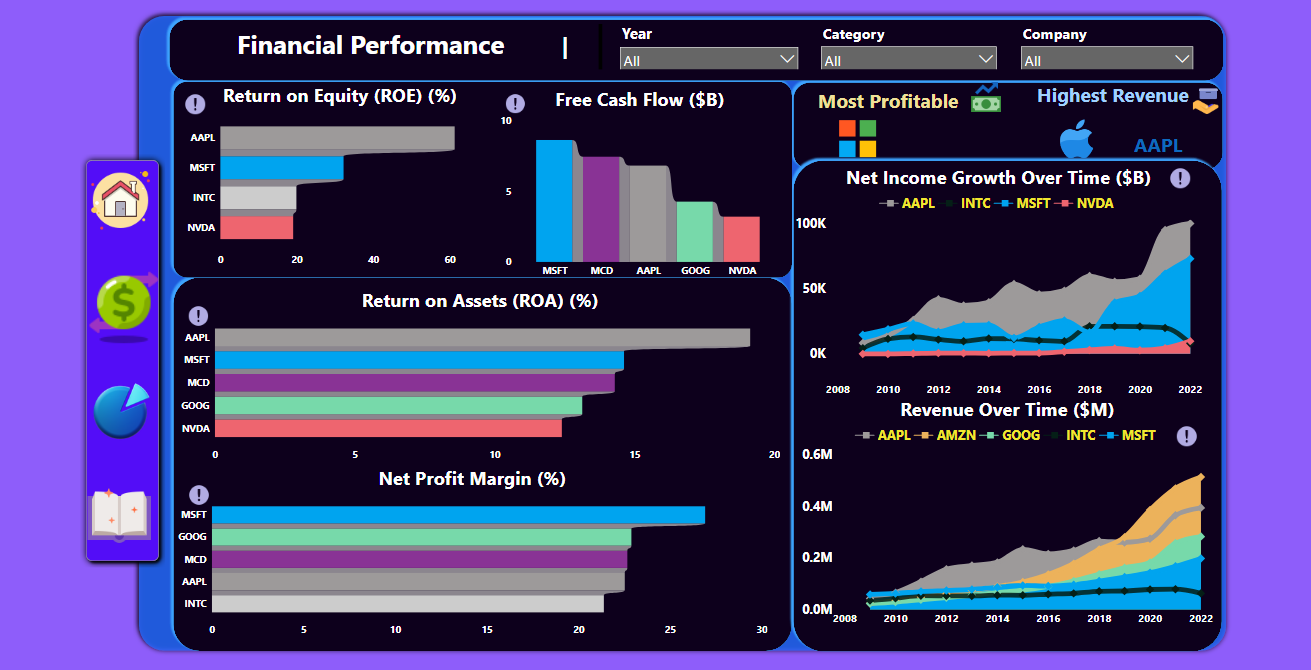

The page's visual inventory and layout, read from the dashboard file:
{"tool":"powerbi","page":{"name":"Financial Analysis 📈","canvas":[1920,1080],"ordinal":1},"visuals":[{"type":"shape","box":[87.6,0,1831.9,1078],"z":500},{"type":"shape","box":[146.4,437.5,1048.9,640.7],"z":1000},{"type":"shape","box":[1179.8,112.1,733.6,163],"z":2000},{"type":"shape","box":[1180.7,241.6,732.2,836.5],"z":3000},{"type":"shape","box":[145.9,109.4,1049,345.4],"z":4000},{"type":"shape","box":[0,240.3,141.6,688.6],"z":5000},{"type":"shape","box":[140.6,6.1,1774.9,120.2],"z":6000},{"type":"slicer","fields":{"Values":["Financial Statements.Year"]},"box":[889.3,16.1,317.2,82.3],"z":7000},{"type":"slicer","fields":{"Values":["Financial Statements.Category"]},"box":[1224.5,16.1,313.2,82.3],"z":8000},{"type":"lineChart","title":"Revenue Over Time ($M)","fields":{"Category":["Financial Statements.Year"],"Y":["Sum(Financial Statements.Revenue)"],"Series":["Financial Statements.Company "]},"box":[1198.2,643.9,694.9,393.3],"z":9000},{"type":"barChart","title":"Return on Assets (ROA) (%)","fields":{"Category":["Financial Statements.Company "],"Y":["Avg(Financial Statements.ROA)"]},"box":[160.9,461.2,1010.4,300.3],"z":10000},{"type":"barChart","title":"Net Profit Margin (%)","fields":{"Category":["Financial Statements.Company "],"Y":["Avg(Financial Statements.Net Profit Margin)"]},"box":[156.9,758,994.4,295.5],"z":11000},{"type":"image","box":[0,242.4,135.2,150.2],"z":12000},{"type":"image","box":[0,768,130.9,148],"z":13000},{"type":"image","box":[0,388.3,145.9,197.4],"z":14000},{"type":"image","box":[10.7,581.4,113.7,178.1],"z":15000},{"type":"shape","box":[834.1,22.7,68.1,76.4],"z":16000},{"type":"slicer","fields":{"Values":["Financial Statements.Company "]},"box":[1557.8,16.1,307.1,82.3],"z":17000},{"type":"card","fields":{"Values":["Financial Statements.TopMarketCapCompany"]},"box":[1730.1,194.1,134.4,64],"z":18000},{"type":"textbox","box":[1589.3,113.1,324.3,125.9],"z":19000},{"type":"image","box":[1610.7,166.4,100.3,96],"z":20000},{"type":"textbox","box":[1224.5,123.7,313.6,72.5],"z":21000},{"type":"textbox","box":[156.6,22.1,821,172.6],"z":22000},{"type":"columnChart","title":"Free Cash Flow ($B)","fields":{"Category":["Financial Statements.Company "],"Y":["Sum(Financial Statements.Free Cash Flow per Share)"]},"box":[695.1,126.6,476.2,328.2],"z":26000},{"type":"image","box":[1834.7,119.5,81.1,64],"z":27000},{"type":"image","box":[1457.1,108.8,106.7,72.5],"z":28000},{"type":"image","box":[1250.1,168.5,91.7,91.7],"z":29000},{"type":"textbox","box":[1390.9,192,119.5,70.4],"z":30000},{"type":"barChart","title":"Return on Equity (ROE) (%) ","fields":{"Category":["Financial Statements.Company "],"Y":["Avg(Financial Statements.ROE)"]},"box":[171.6,120.1,523.4,317.5],"z":31000},{"type":"lineChart","title":"Net Income Growth Over Time ($B)","fields":{"Y":["Sum(Financial Statements.Net Income)"],"Category":["Financial Statements.Year"],"Series":["Financial Statements.Company"]},"box":[1186,256.8,688.8,397.4],"z":32000},{"type":"image","box":[160.9,130.9,60.1,51.5],"z":33000},{"type":"image","box":[168.6,782.9,60.2,50.2],"z":34000},{"type":"image","box":[1815.6,684.7,59.1,50.9],"z":35000},{"type":"image","box":[1803.4,254.7,61.1,50.9],"z":36000},{"type":"image","box":[695.1,130.9,60.1,49.3],"z":37000},{"type":"image","box":[138.5,485.8,118.4,50.2],"z":38000}]}

Visuals, with their boxes on the page's 1920x1080 design canvas (x1, y1, x2, y2). These are canvas units, not pixel positions in the 1311x670 screenshot, which may show the page scaled, cropped or inside an application window:
shape: <box>88,0,1920,1078</box>
shape: <box>146,438,1195,1078</box>
shape: <box>1180,112,1913,275</box>
shape: <box>1181,242,1913,1078</box>
shape: <box>146,109,1195,455</box>
shape: <box>0,240,142,929</box>
shape: <box>141,6,1916,126</box>
slicer - Financial Statements.Year: <box>889,16,1206,98</box>
slicer - Financial Statements.Category: <box>1224,16,1538,98</box>
"Revenue Over Time ($M)" lineChart: <box>1198,644,1893,1037</box>
"Return on Assets (ROA) (%)" barChart: <box>161,461,1171,762</box>
"Net Profit Margin (%)" barChart: <box>157,758,1151,1054</box>
image: <box>0,242,135,393</box>
image: <box>0,768,131,916</box>
image: <box>0,388,146,586</box>
image: <box>11,581,124,760</box>
shape: <box>834,23,902,99</box>
slicer - Financial Statements.Company : <box>1558,16,1865,98</box>
card - Financial Statements.TopMarketCapCompany: <box>1730,194,1864,258</box>
textbox: <box>1589,113,1914,239</box>
image: <box>1611,166,1711,262</box>
textbox: <box>1224,124,1538,196</box>
textbox: <box>157,22,978,195</box>
"Free Cash Flow ($B)" columnChart: <box>695,127,1171,455</box>
image: <box>1835,120,1916,184</box>
image: <box>1457,109,1564,181</box>
image: <box>1250,168,1342,260</box>
textbox: <box>1391,192,1510,262</box>
"Return on Equity (ROE) (%) " barChart: <box>172,120,695,438</box>
"Net Income Growth Over Time ($B)" lineChart: <box>1186,257,1875,654</box>
image: <box>161,131,221,182</box>
image: <box>169,783,229,833</box>
image: <box>1816,685,1875,736</box>
image: <box>1803,255,1864,306</box>
image: <box>695,131,755,180</box>
image: <box>138,486,257,536</box>
